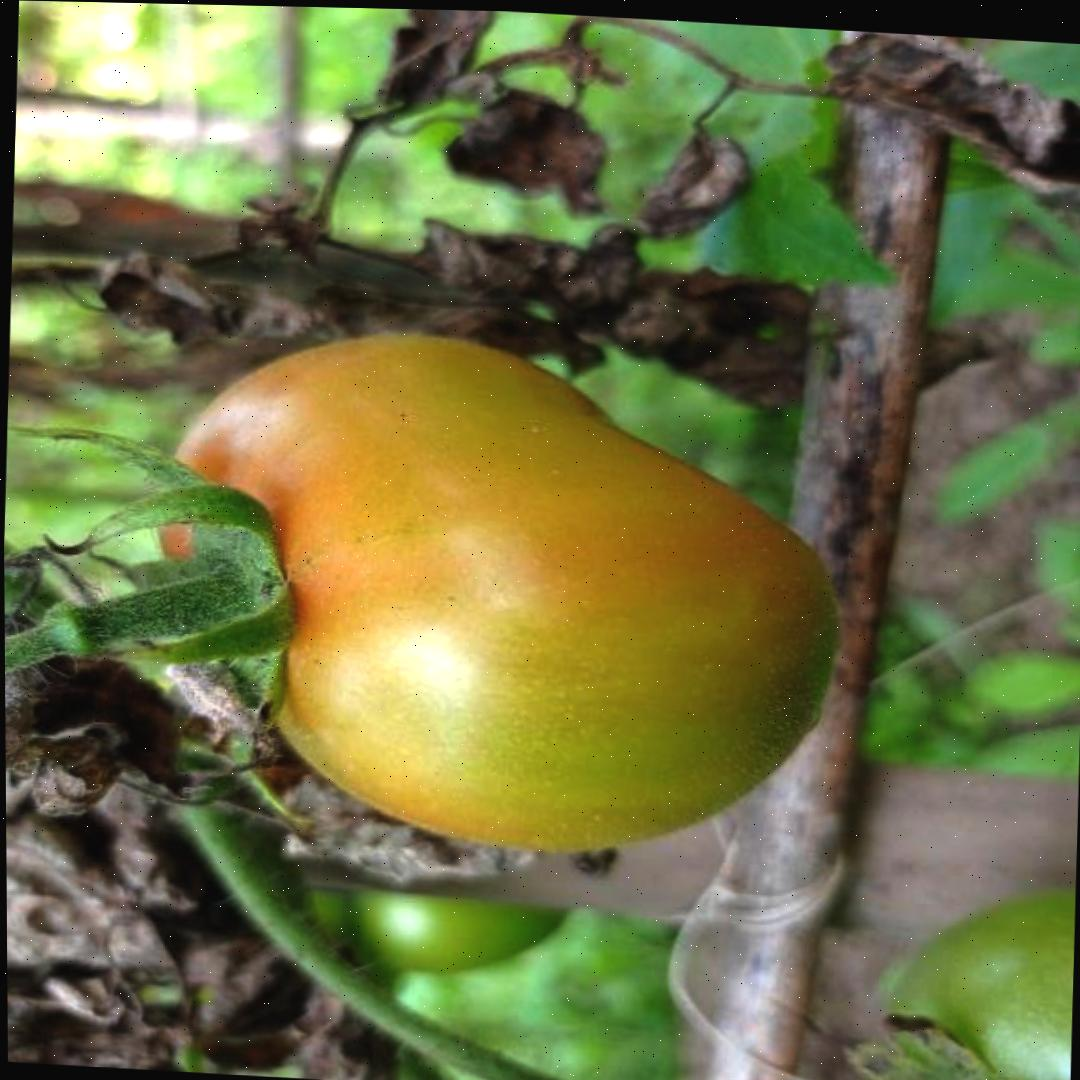setengah_matang: (137, 312, 847, 872)
